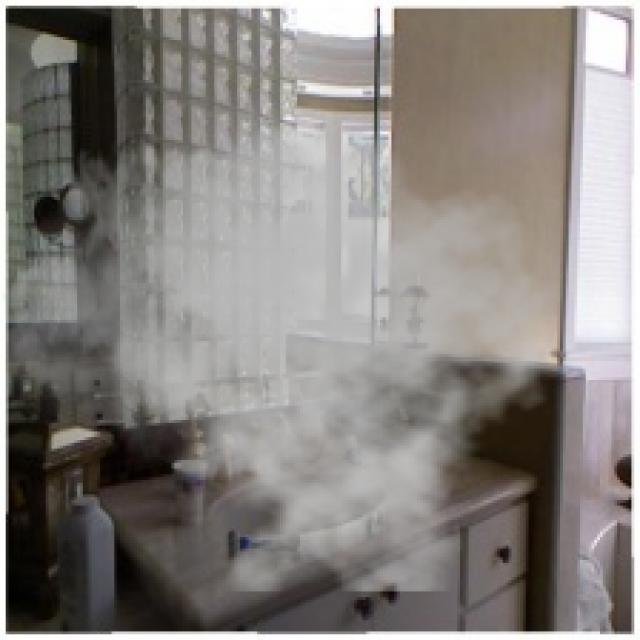smoke: (3, 71, 568, 592)
